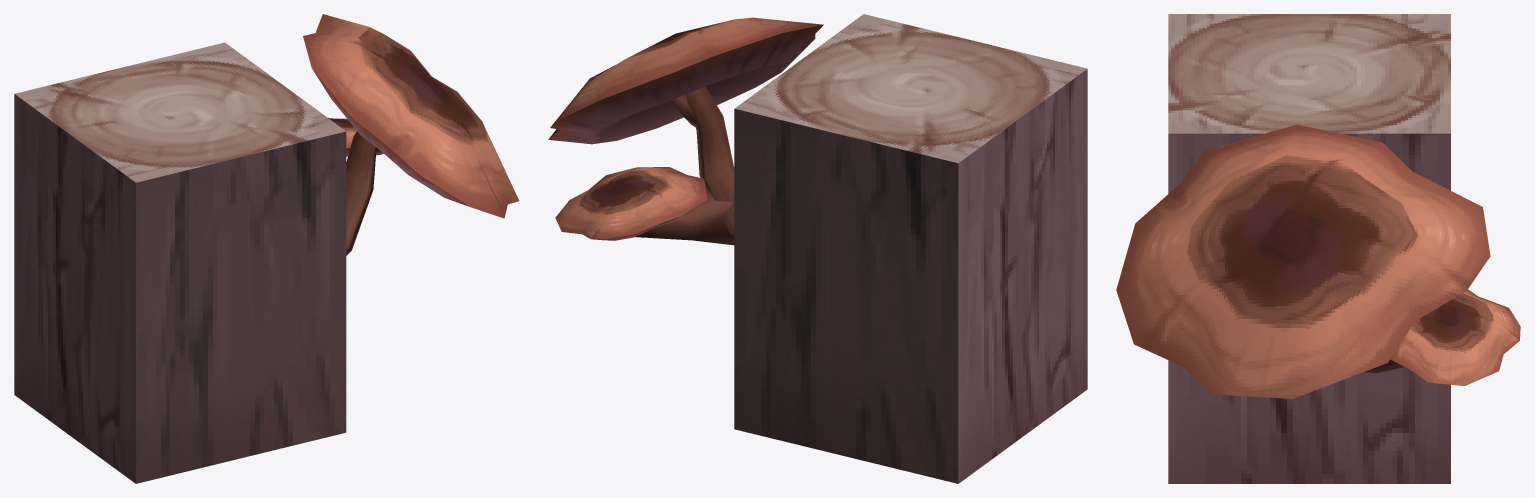
File: herb_lingzhi.glb
3 views of the same model, side by side, from view 1: azimuth 30°, elevation 25°; view 2: azimuth 150°, elevation 25°; view 3: azimuth 270°, elevation 25° (orthographic). The views are drawn at different scales.
Parts seen in each view (by area): view 1: 灵芝; view 2: 灵芝; view 3: 灵芝.
Boxes of the visible parts, x1,y1,x2,y2 form: 灵芝: (14,14,519,483); 灵芝: (548,14,1087,483); 灵芝: (1116,14,1520,483).
Size of the model in its own units: 0.7302 by 0.5294 by 0.5229.
1 material, 1 textured.
